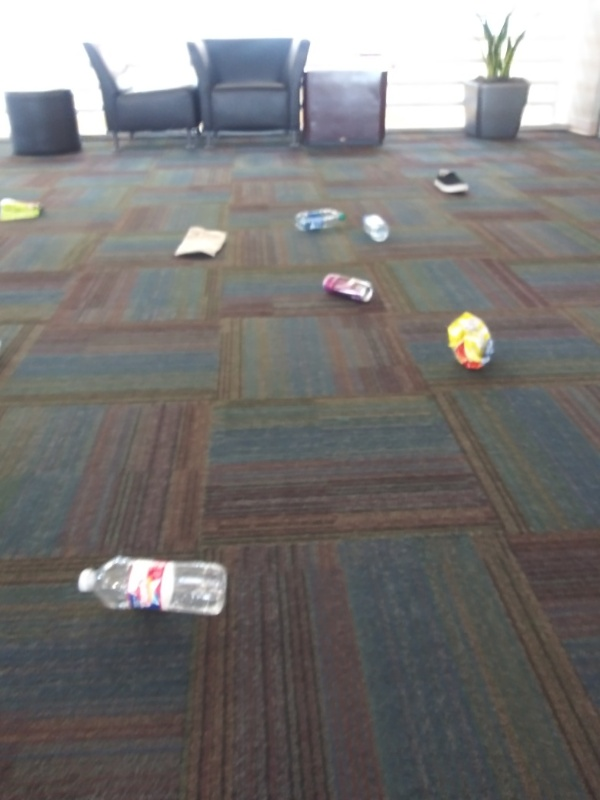bag: (440, 306, 497, 370), (171, 225, 229, 266), (1, 193, 46, 224)
bottle: (72, 551, 233, 621), (289, 206, 350, 236), (357, 208, 391, 243)
can: (319, 267, 376, 310)
